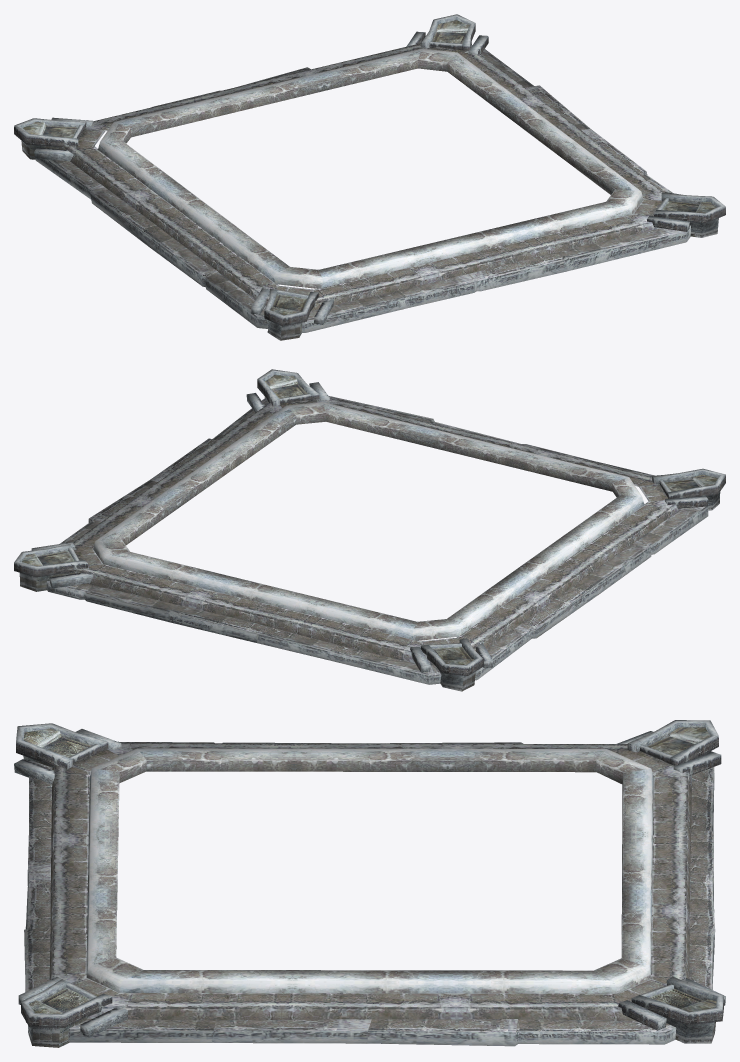
The model's file is S_Build_Snowland150.FBX.
The picture shows the model from 3 angles, top to bottom: view 1: azimuth 30°, elevation 25°; view 2: azimuth 150°, elevation 25°; view 3: azimuth 270°, elevation 25°; orthographic projection. The views are drawn at different scales.
Visible parts, largest first — view 1: S_Build_Snowland150; view 2: S_Build_Snowland150; view 3: S_Build_Snowland150.
Part boxes in pixels (x1=…): S_Build_Snowland150: x1=14, y1=14, x2=725, y2=340; S_Build_Snowland150: x1=14, y1=369, x2=725, y2=691; S_Build_Snowland150: x1=14, y1=720, x2=725, y2=1047.
Size of the model in its own units: 1411 by 1439 by 89.62.
